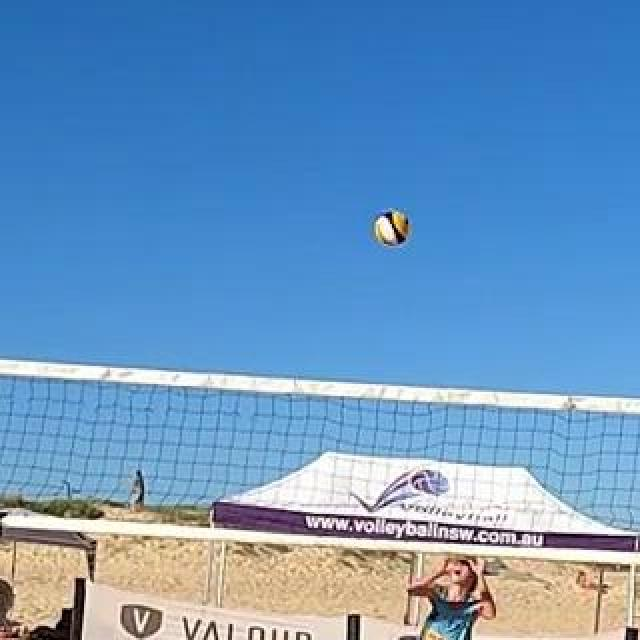volleyball: (375, 211, 409, 243)
